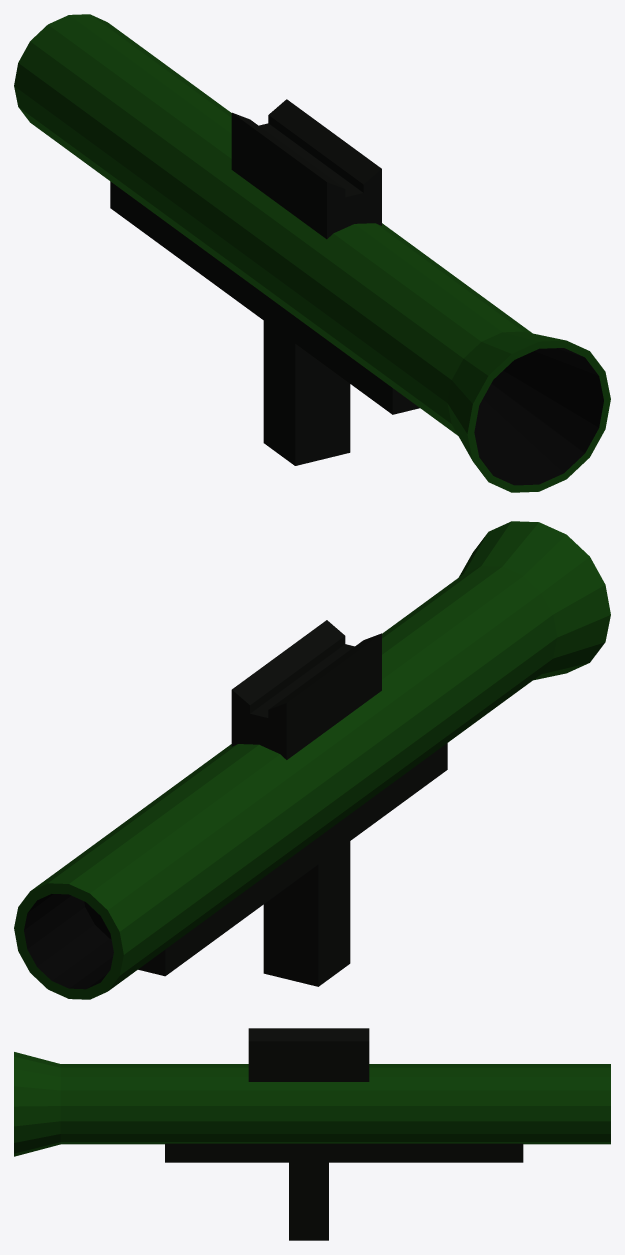
The model's file is Bazooka.obj.
3 views of the same model, one above another, from view 1: azimuth 30°, elevation 25°; view 2: azimuth 150°, elevation 25°; view 3: azimuth 270°, elevation 25° (orthographic). The views are drawn at different scales.
Parts seen in each view (by area): view 1: Cylinder; view 2: Cylinder; view 3: Cylinder.
Boxes of the visible parts, x1=… form: Cylinder: x1=14, y1=14, x2=610, y2=492; Cylinder: x1=14, y1=521, x2=610, y2=999; Cylinder: x1=14, y1=1028, x2=610, y2=1240.
Bounding box in the file's own units: 0.5226 × 1.07 × 2.97.
